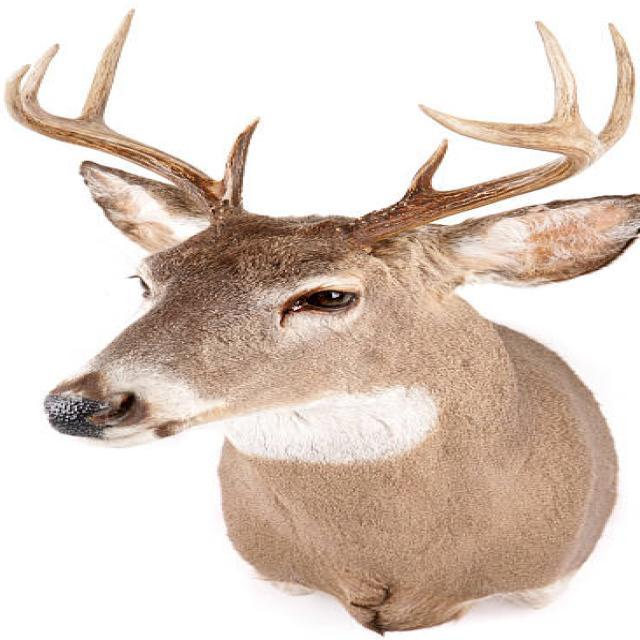L-F: (347, 103, 606, 246)
L-G1: (402, 136, 449, 199)
L-G2: (598, 21, 636, 153)
L-G3: (533, 19, 591, 129)
R-F: (2, 63, 272, 227)
R-G1: (218, 113, 265, 195)
R-G2: (74, 7, 137, 129)
R-G3: (21, 42, 61, 112)
